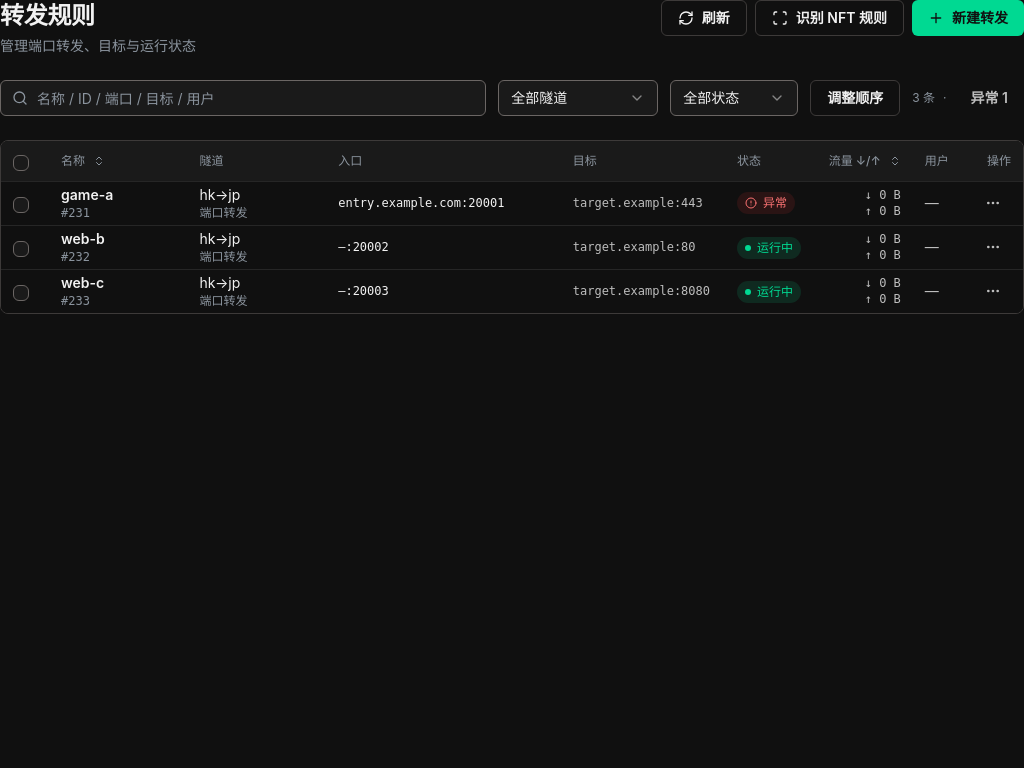
Test: forward batch operations › summarizes individual failures and refreshes after three pause requests
This screenshot has width=1024, height=768.
Expected: the text "game-a" is shown, [61,186,113,203]
What coordinates should you click on to do the following:
click the checkbox named "选择全部"
I would click on:
 (21, 163)
Its box is [13,155,29,171].
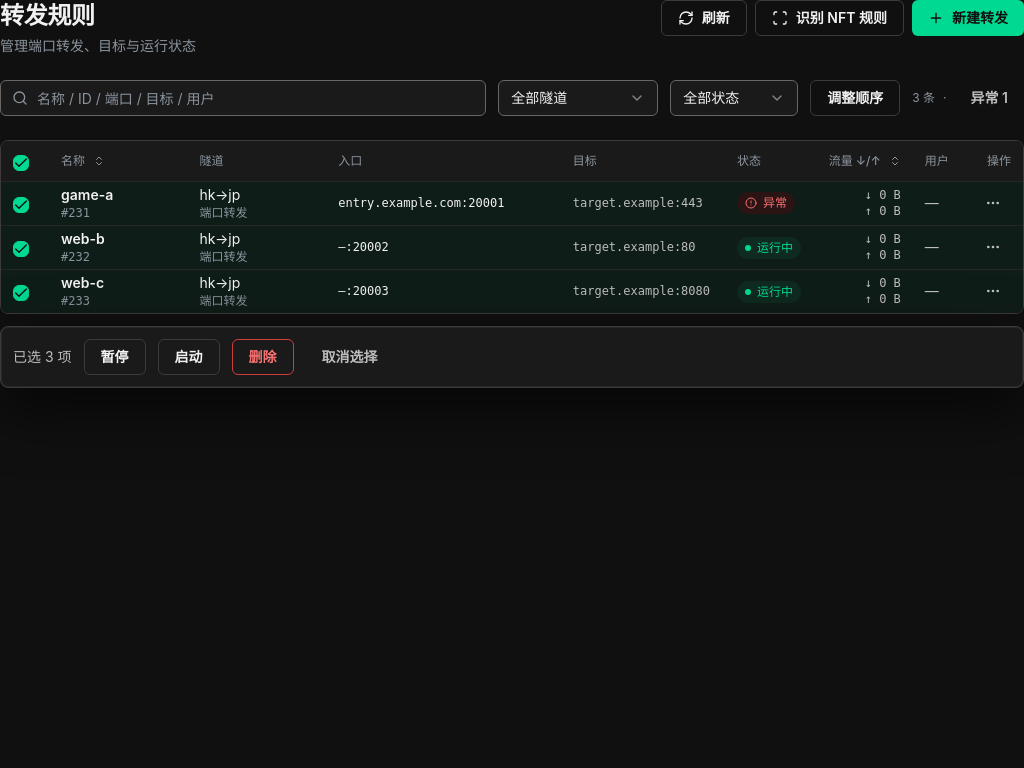
What coordinates should you click on to do the following:
click the button "暂停"
I would click on:
 (114, 357)
Its box is [84,339,146,375].
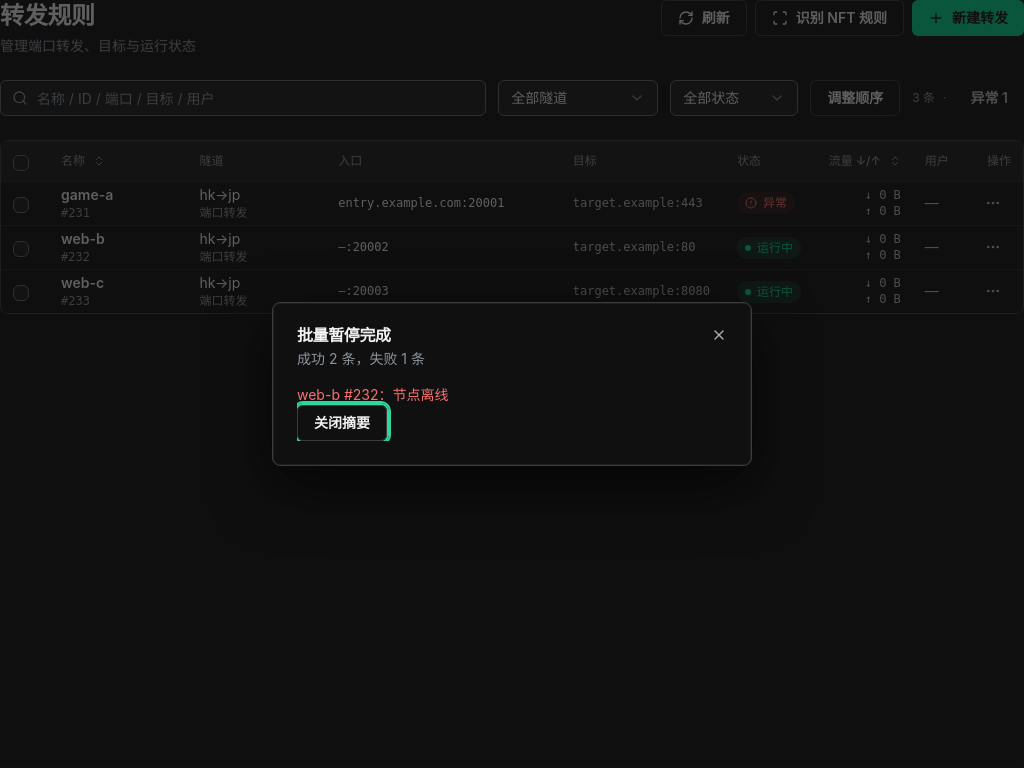
Now the dialog "批量暂停完成" shows "成功 2 条，失败 1 条", box [272,302,752,466]
Now the dialog "批量暂停完成" shows "web-b #232：节点离线", box [272,302,752,466]
